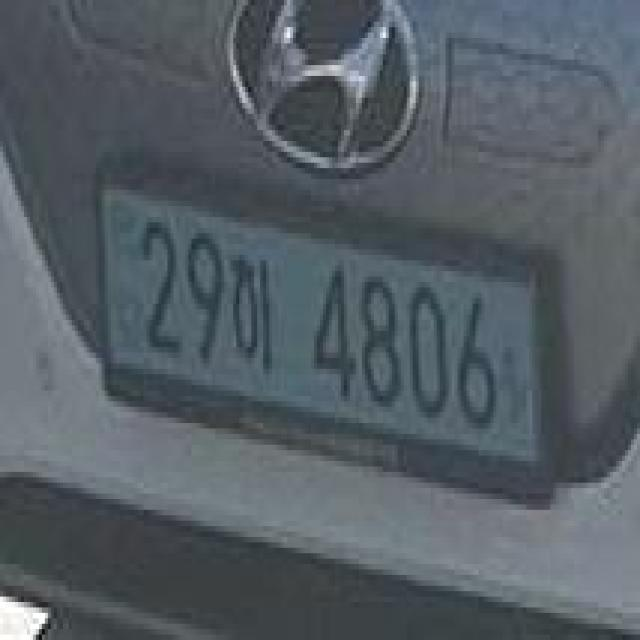EV_plate: (95, 169, 551, 520)
